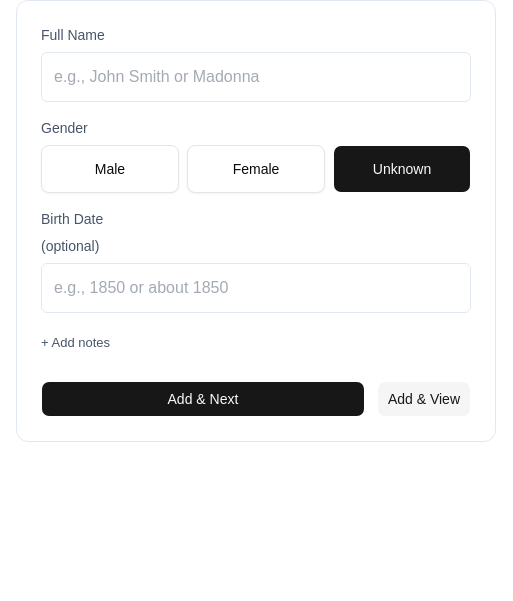
QuickCapture dates (#996) › offers to keep an unreadable birth date as text and adds the person with it as a phrase
The width and height of the screenshot is (513, 601).
Type "Ada Lovelace" into the field labelled "Full Name" at (256, 77), box [41,52,471,102]
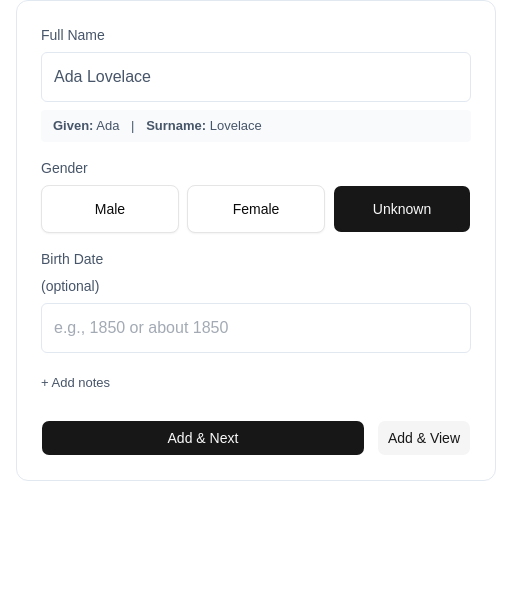
Type "late 1850s" into the field labelled "Birth Date (optional)" at (256, 328), box [41,302,471,352]
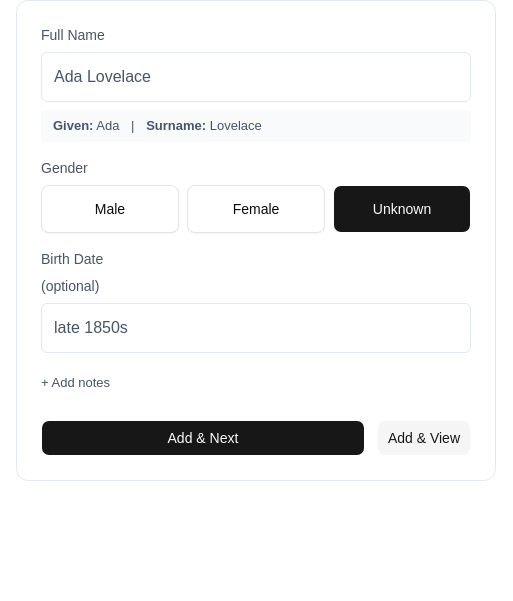
Click the button "Add & Next" at (203, 438), box [41,420,365,456]
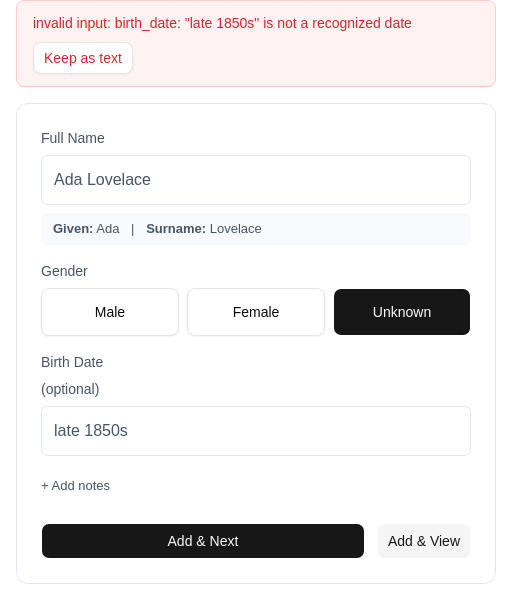
Click the button "Keep as text" at (83, 58), box [33,42,133,74]
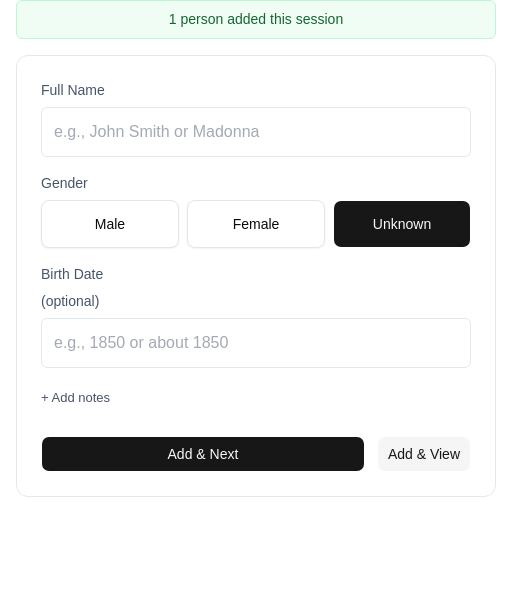
Expected: the text "1 person added this session" is shown, [16,0,496,39]
